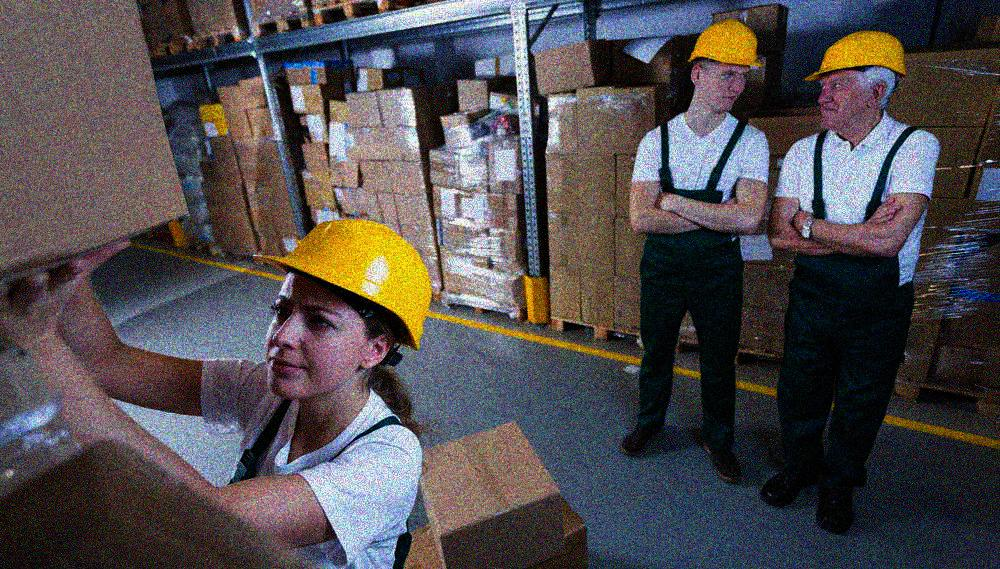helmet: (250, 213, 432, 403), (802, 26, 908, 135), (682, 18, 764, 116)
